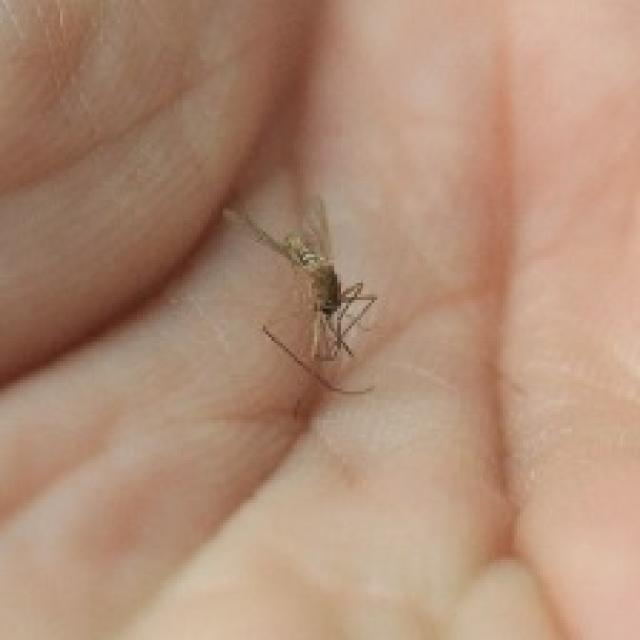culex: (223, 192, 377, 394)
